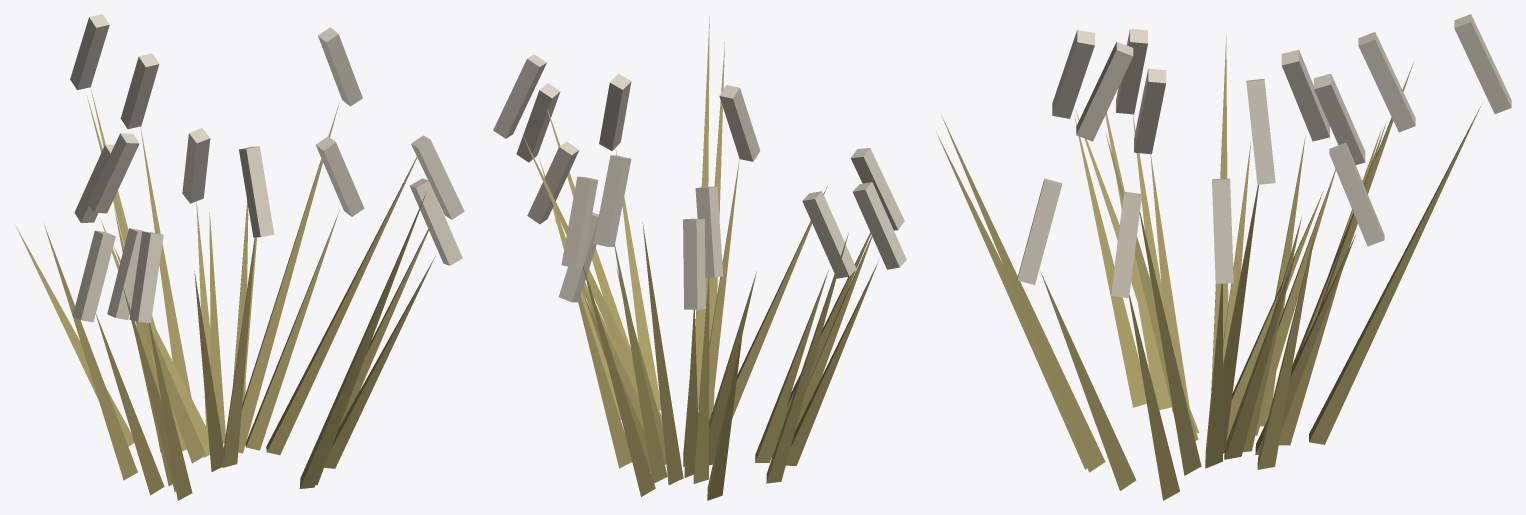
The model's file is nature_silvergrass_a.glb.
3 views of the same model, side by side, from view 1: azimuth 30°, elevation 25°; view 2: azimuth 150°, elevation 25°; view 3: azimuth 270°, elevation 25° (orthographic). The views are drawn at different scales.
Parts seen in each view (by area): view 1: nature_silvergrass_a; view 2: nature_silvergrass_a; view 3: nature_silvergrass_a.
Part boxes in pixels (<box>): nature_silvergrass_a: <box>15,14,464,500</box>; nature_silvergrass_a: <box>493,16,906,500</box>; nature_silvergrass_a: <box>936,14,1511,500</box>.
Bounding box in the file's own units: 1.97 × 1.88 × 2.21.
